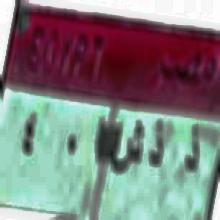0: (60, 128, 85, 167)
4: (18, 108, 41, 166)
sheen: (112, 122, 144, 181)
zaal: (180, 121, 208, 179), (148, 120, 166, 177)
